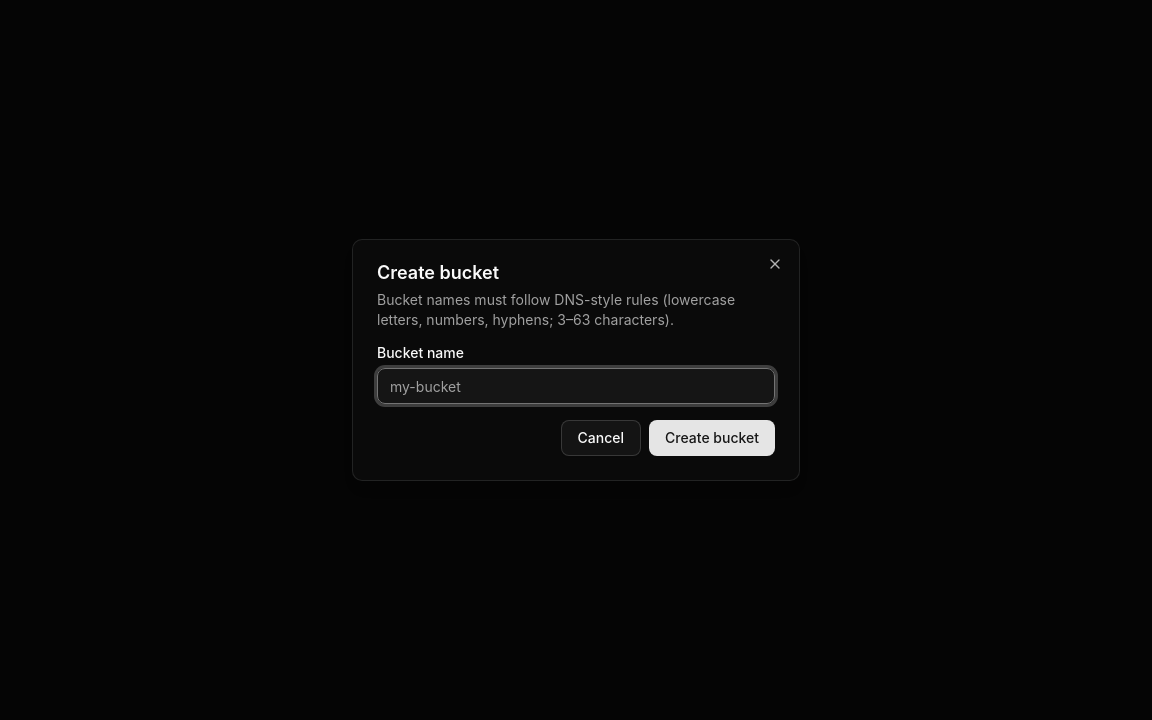
Scenario: CreateBucketDialog › maps 400 InvalidBucketName to the server message on the field
In the field labelled "Bucket name": (576, 386) [377, 368, 775, 404], type "valid-name"
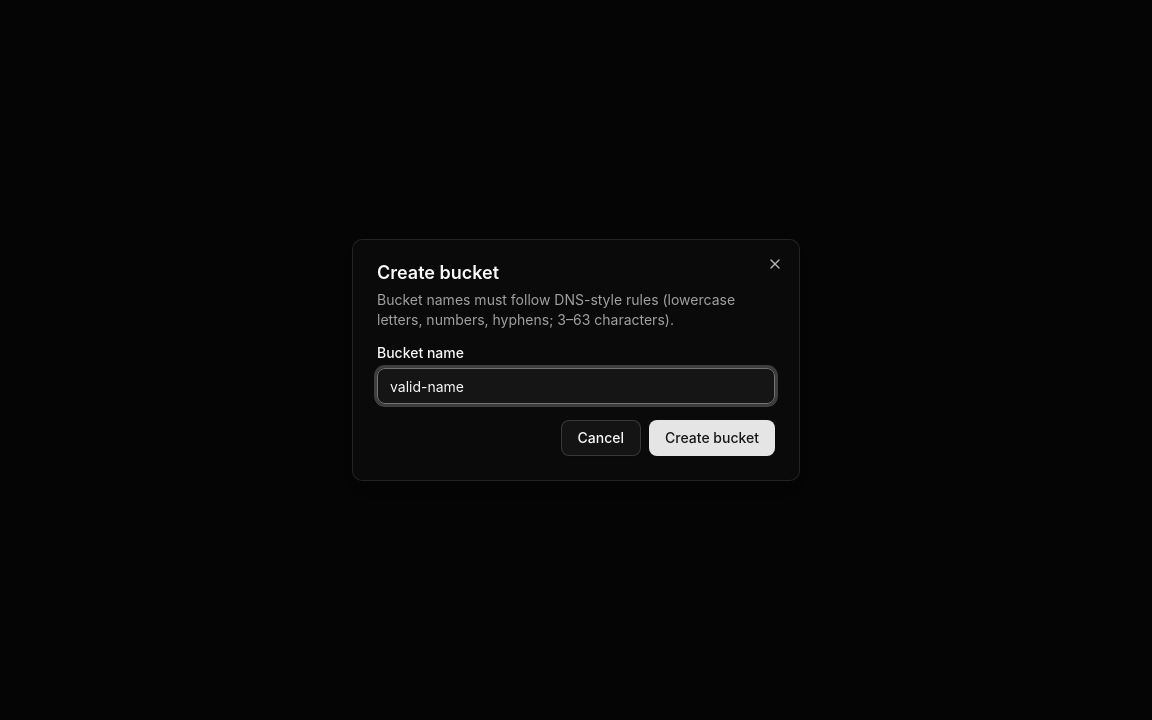
Click the button "Create bucket": (712, 438) [649, 420, 775, 456]
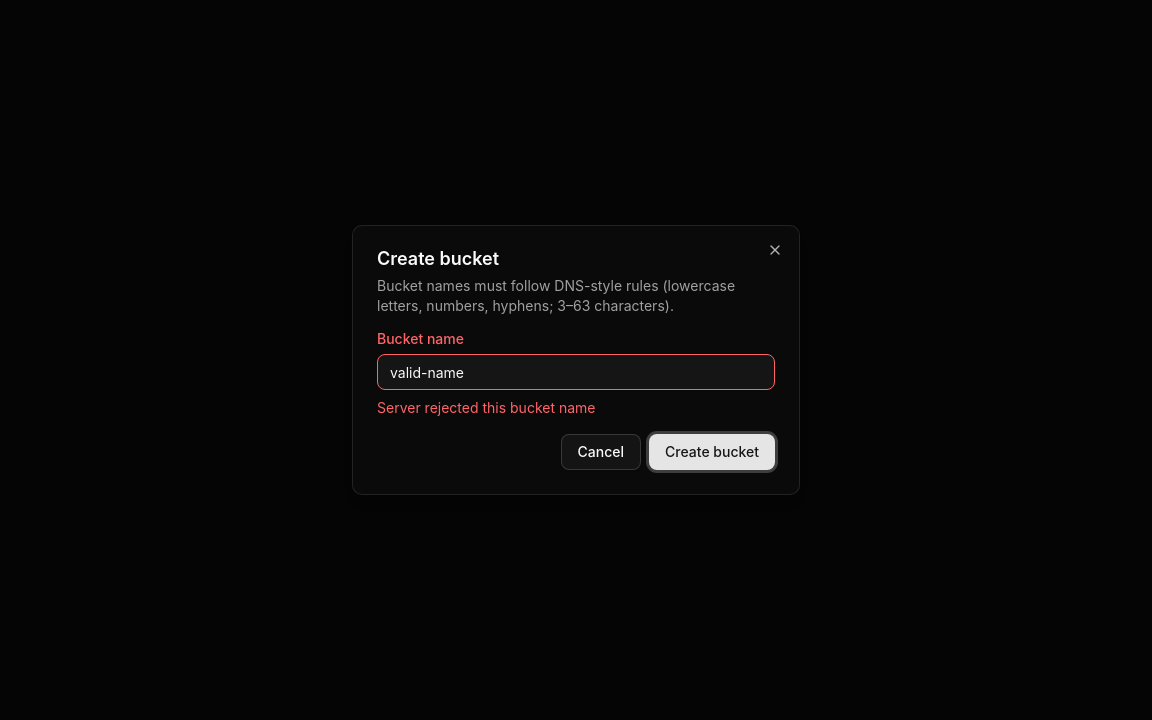
Result: the text "Server rejected this bucket name" is shown at [377, 399, 596, 416]
